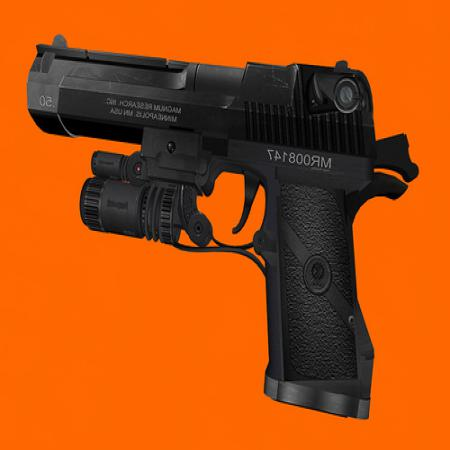Pistol: (28, 33, 420, 420)
